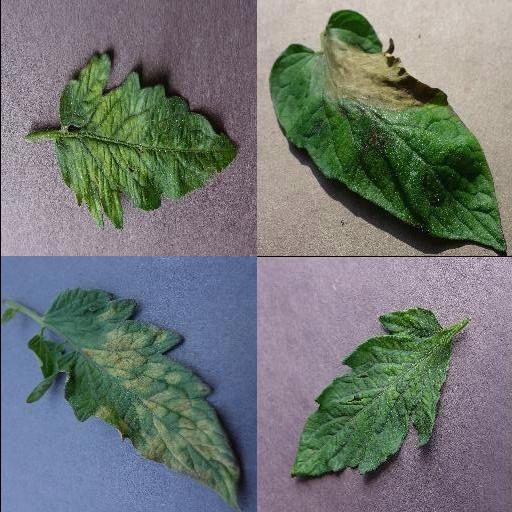Late Blight: (269, 10, 507, 252)
Leaf Mold: (44, 287, 244, 512)
Mosaic Virus: (53, 51, 239, 233), (289, 305, 453, 478)
